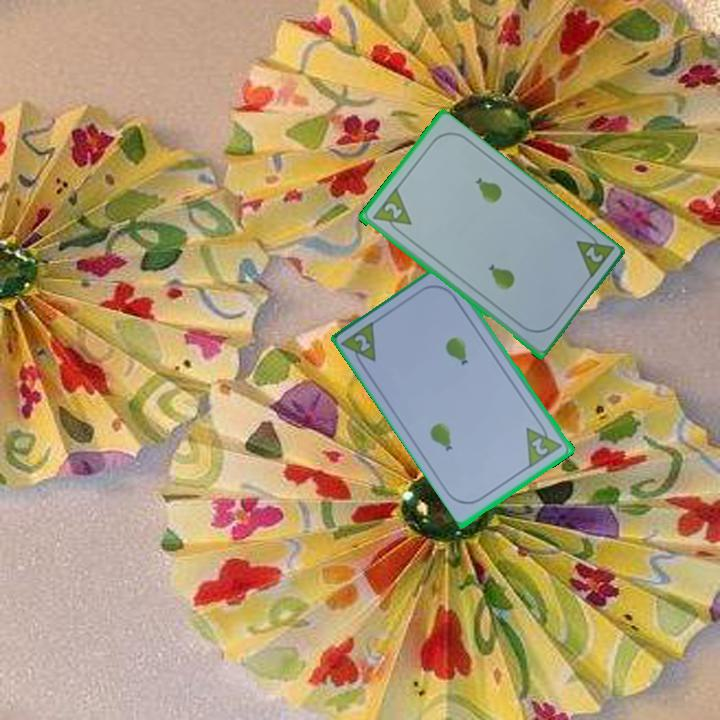2p: (522, 417, 566, 470), (380, 199, 405, 222), (581, 243, 606, 266), (351, 331, 374, 355)
